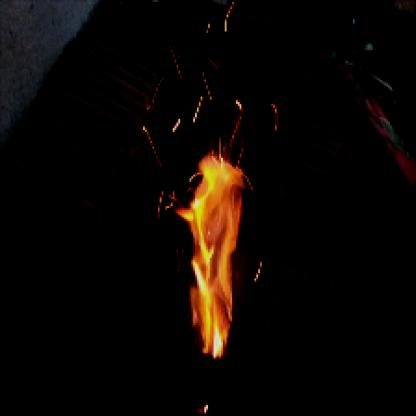Fire: (176, 132, 254, 362)
